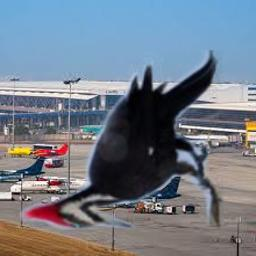Woodpecker: (20, 50, 224, 230)
